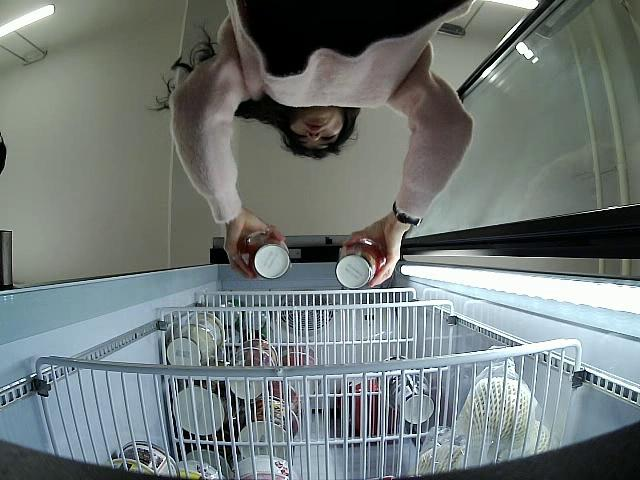00_hand: (340, 215, 403, 288), (223, 213, 284, 280)
02_shinRamen_S: (237, 225, 291, 282), (335, 237, 388, 289)
